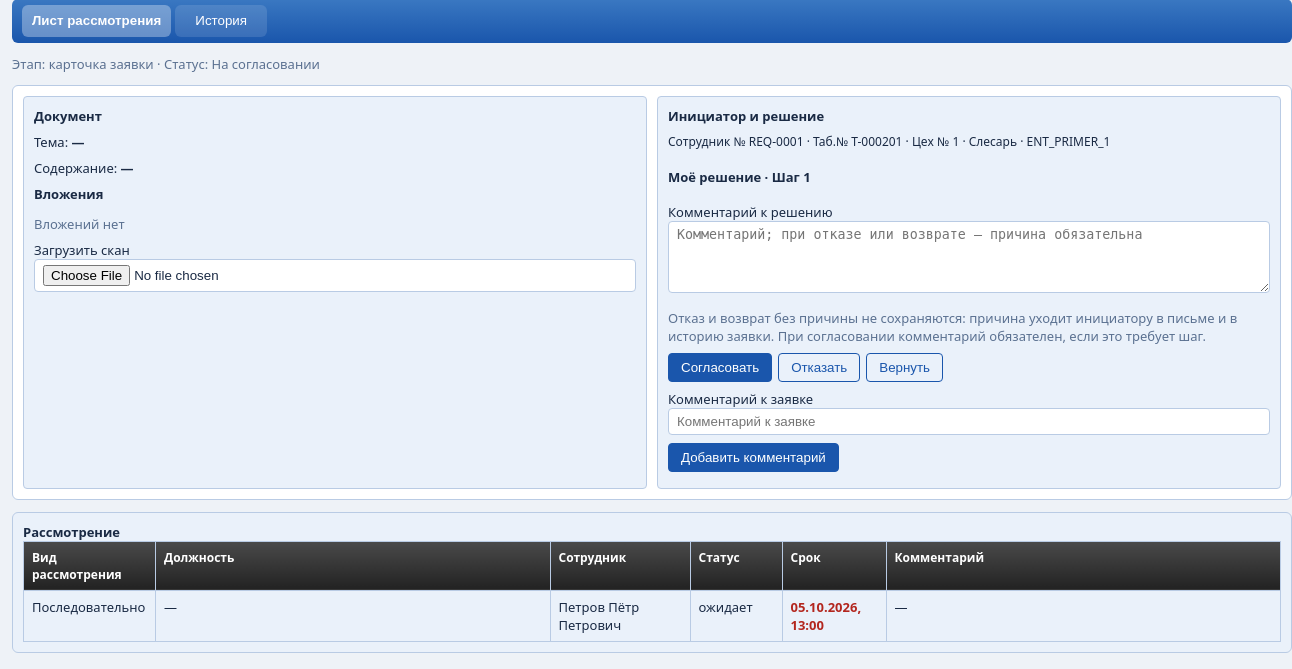
Test: RequestCard › владелец согласовывает свой шаг с комментарием
Expected: the button "Согласовать" is shown, left=668, top=353, right=772, bottom=382
Type "Согласовано" into the text box labelled "Комментарий к решению" at (969, 257), box left=668, top=221, right=1270, bottom=293
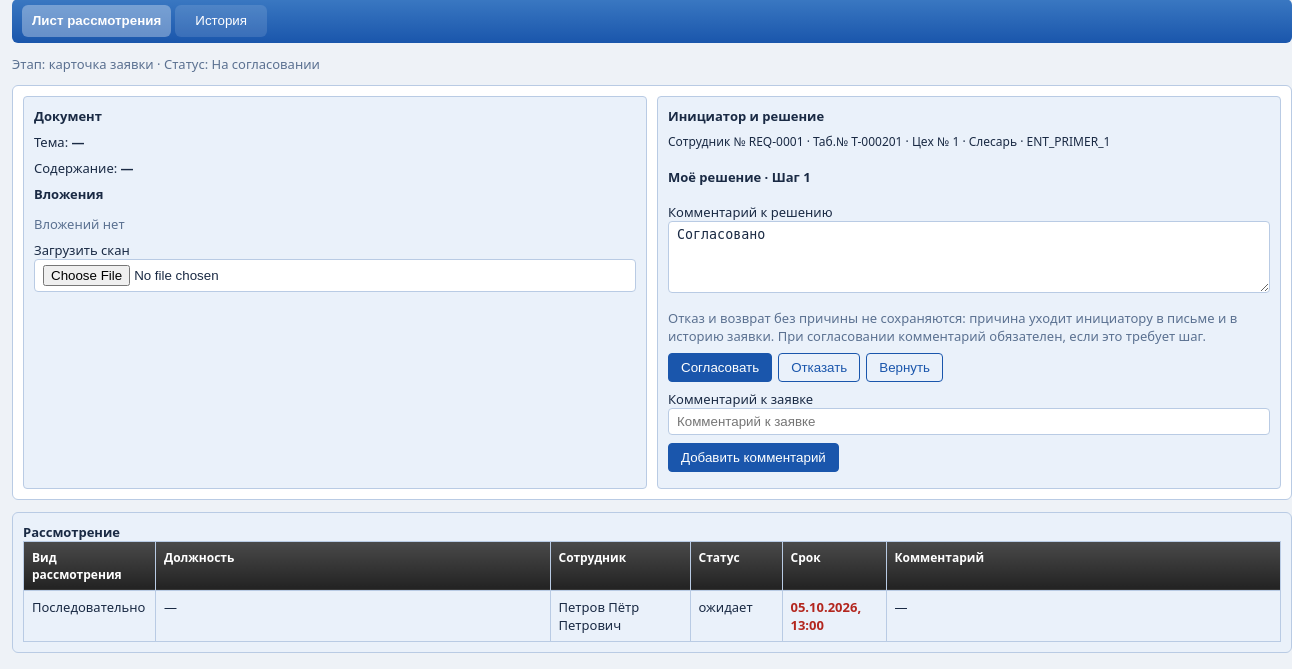
Click the button "Согласовать" at (720, 368), box left=668, top=353, right=772, bottom=382
(page scrolled)
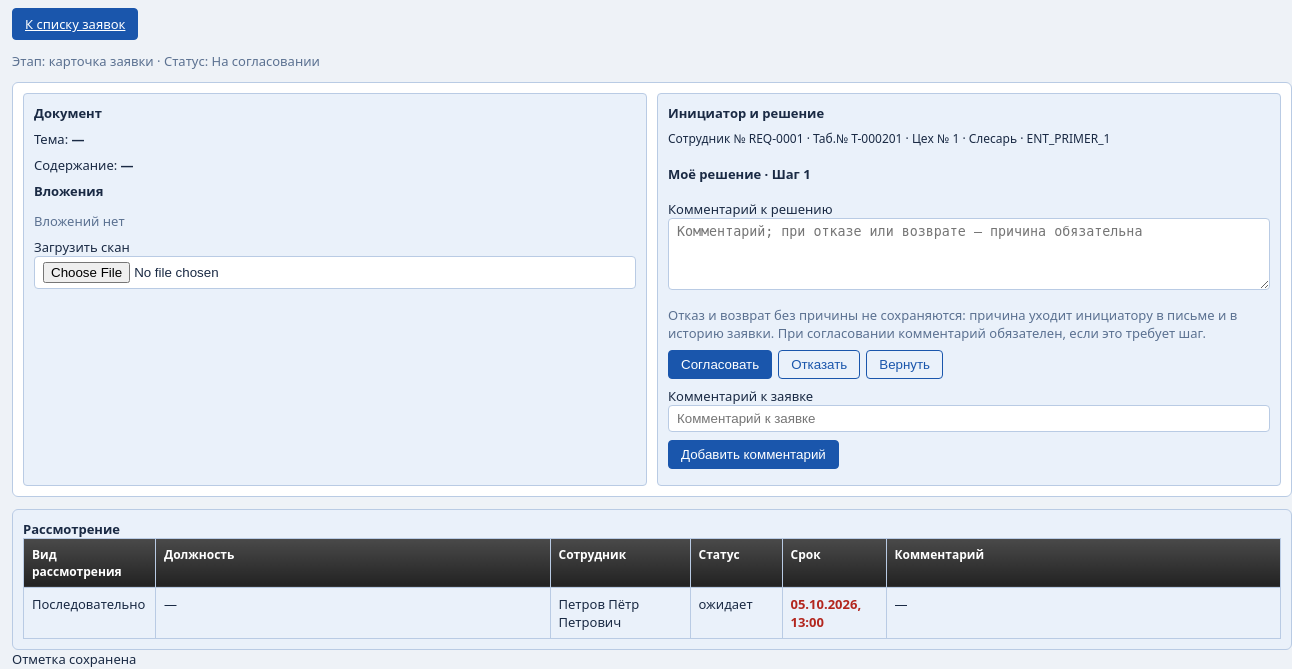
Expected: the text "Отметка сохранена" is shown, left=12, top=650, right=136, bottom=668
